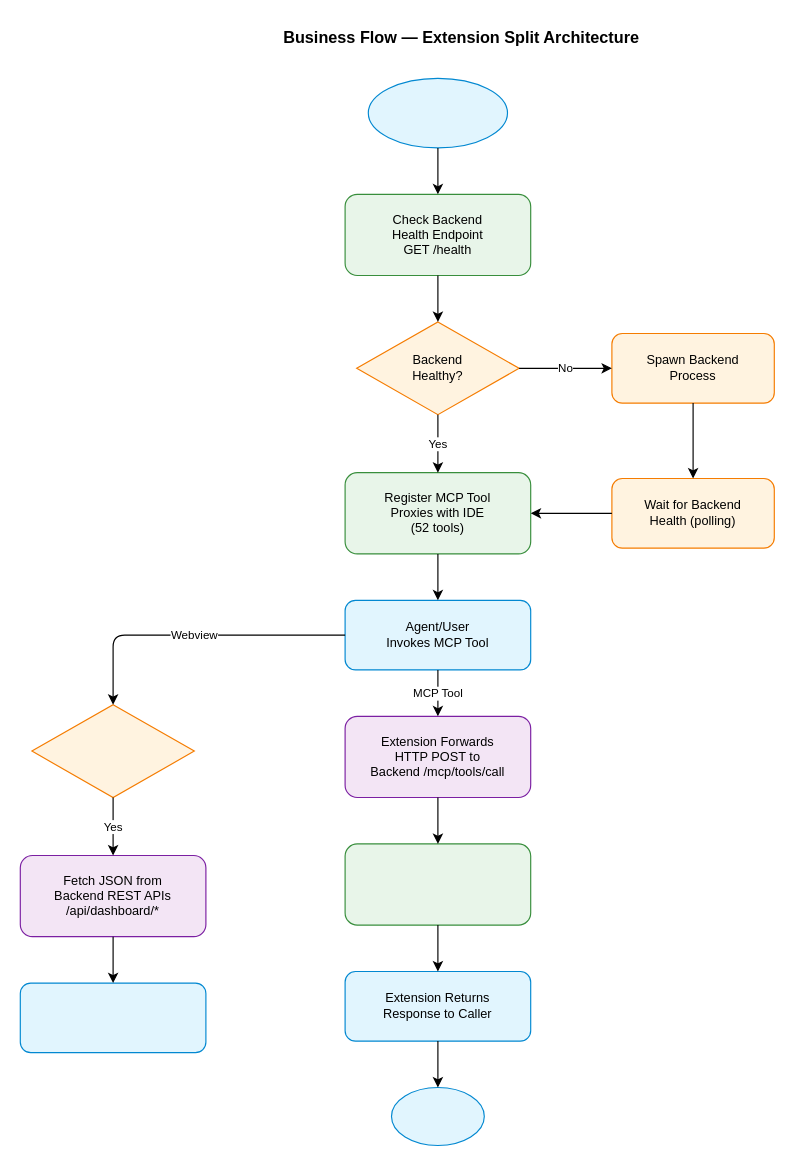
This 795x1166 diagram has some shape labels left out. Each missing label, with the box of its shape:
Backend Executes Tool Logic (Memory/Code/Orchestration): (344, 843, 531, 925)
Done: (390, 1086, 484, 1146)
Extension Activates: (367, 77, 507, 148)
Render HTML in VS Code Webview Panel: (19, 982, 206, 1053)
Webview Request?: (31, 704, 194, 798)
